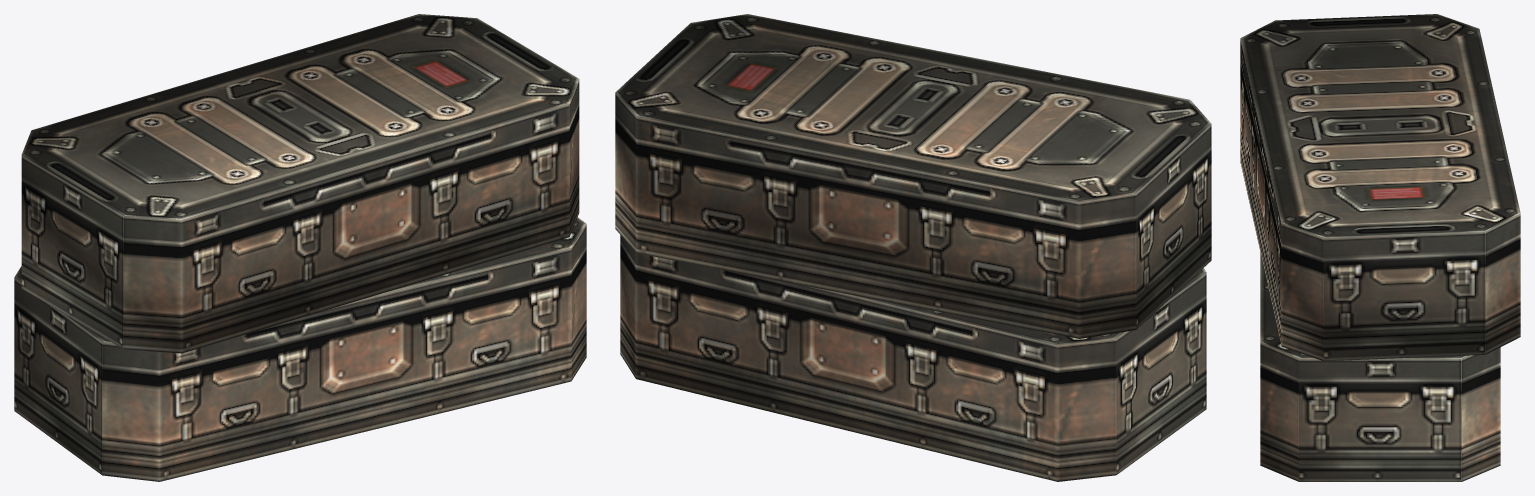
File: mprw_crate_02.FBX
The picture shows the model from 3 angles, left to right: view 1: azimuth 30°, elevation 25°; view 2: azimuth 150°, elevation 25°; view 3: azimuth 270°, elevation 25°; orthographic projection. The views are drawn at different scales.
Visible parts, largest first — view 1: mprw_crate_02; view 2: mprw_crate_02; view 3: mprw_crate_02.
Boxes of the visible parts, left/top/right/bottom form: mprw_crate_02: left=14, top=14, right=586, bottom=481; mprw_crate_02: left=615, top=14, right=1211, bottom=481; mprw_crate_02: left=1240, top=14, right=1520, bottom=481.
Bounding box in the file's own units: 199 × 102 × 105.
1 material, 1 textured.
